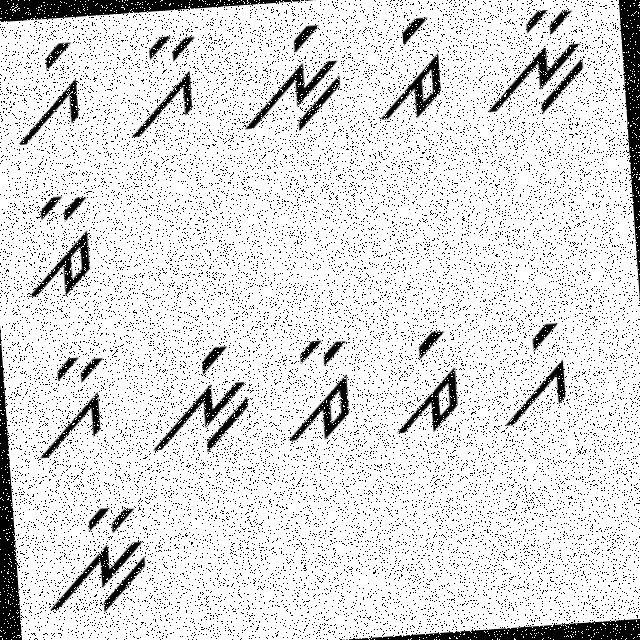gan: (22, 348, 114, 464), (121, 28, 212, 144)
gang: (494, 312, 576, 438), (0, 37, 87, 152)
ngan: (36, 485, 152, 618), (473, 1, 590, 116)
ngang: (144, 338, 256, 463), (238, 21, 348, 135)
tan: (10, 184, 99, 303), (278, 323, 358, 444)
tang: (384, 322, 472, 443), (372, 12, 451, 122)
